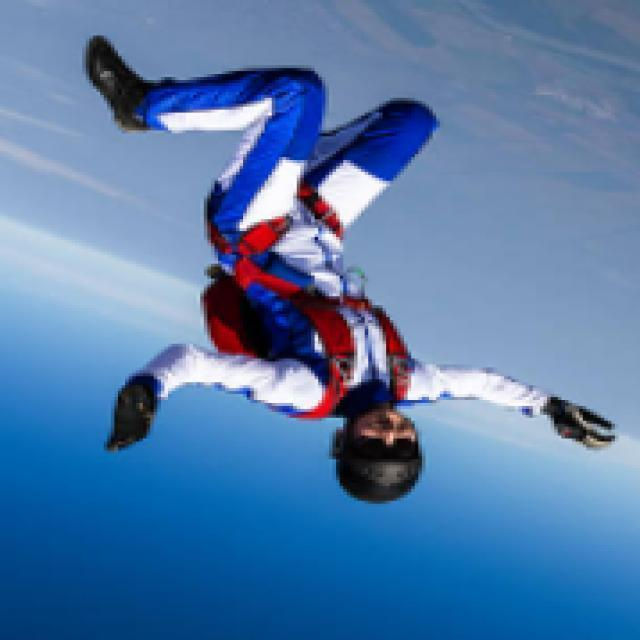fall: (88, 43, 621, 506)
